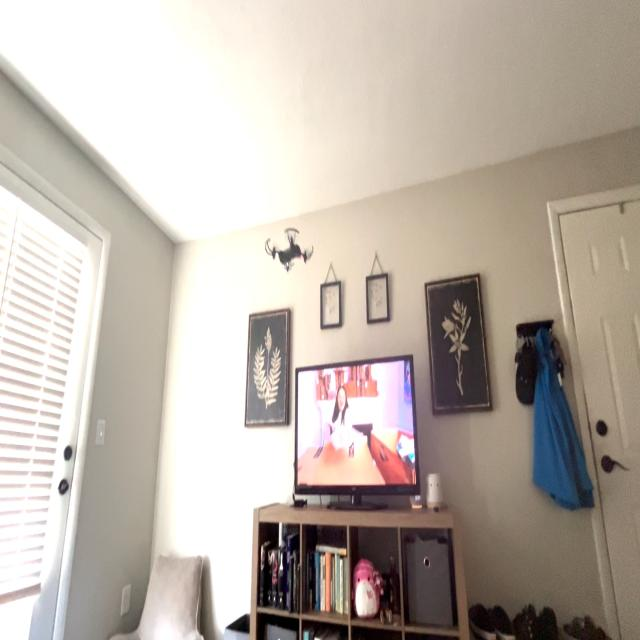drone: (254, 218, 324, 284)
